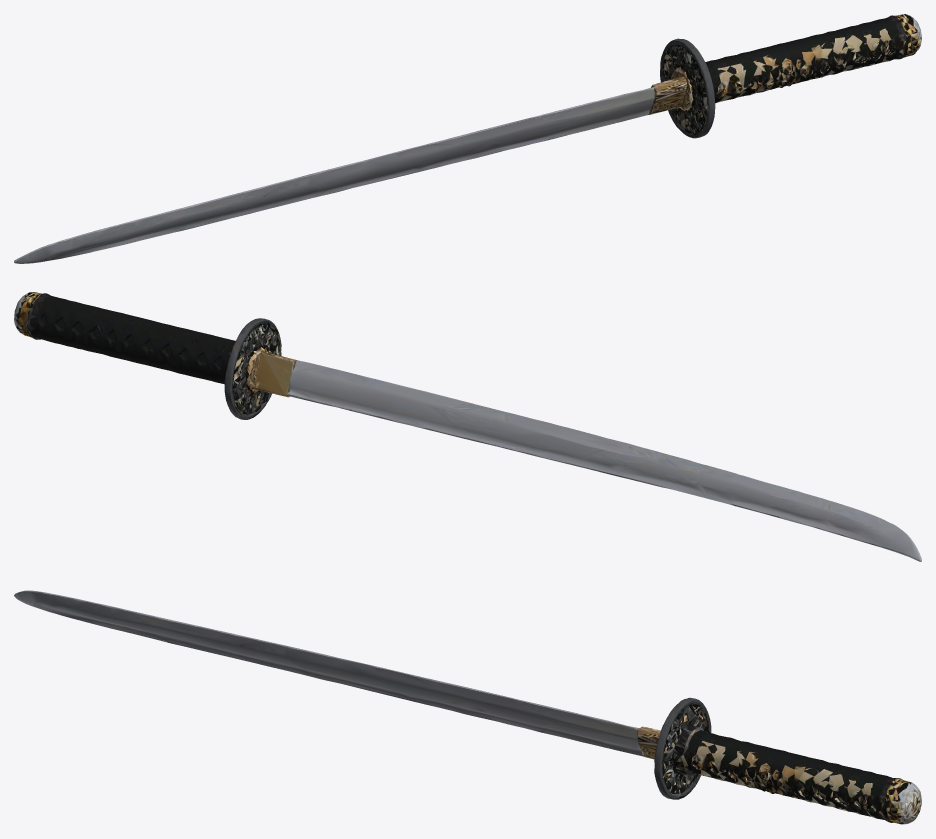
Rendered from katana_sword.glb.
The picture shows the model from 3 angles, top to bottom: view 1: azimuth 30°, elevation 25°; view 2: azimuth 150°, elevation 25°; view 3: azimuth 330°, elevation 25°; orthographic projection. The views are drawn at different scales.
Bounding box in the file's own units: 1.9 × 0.187 × 0.1854.
1 material, 1 textured.
